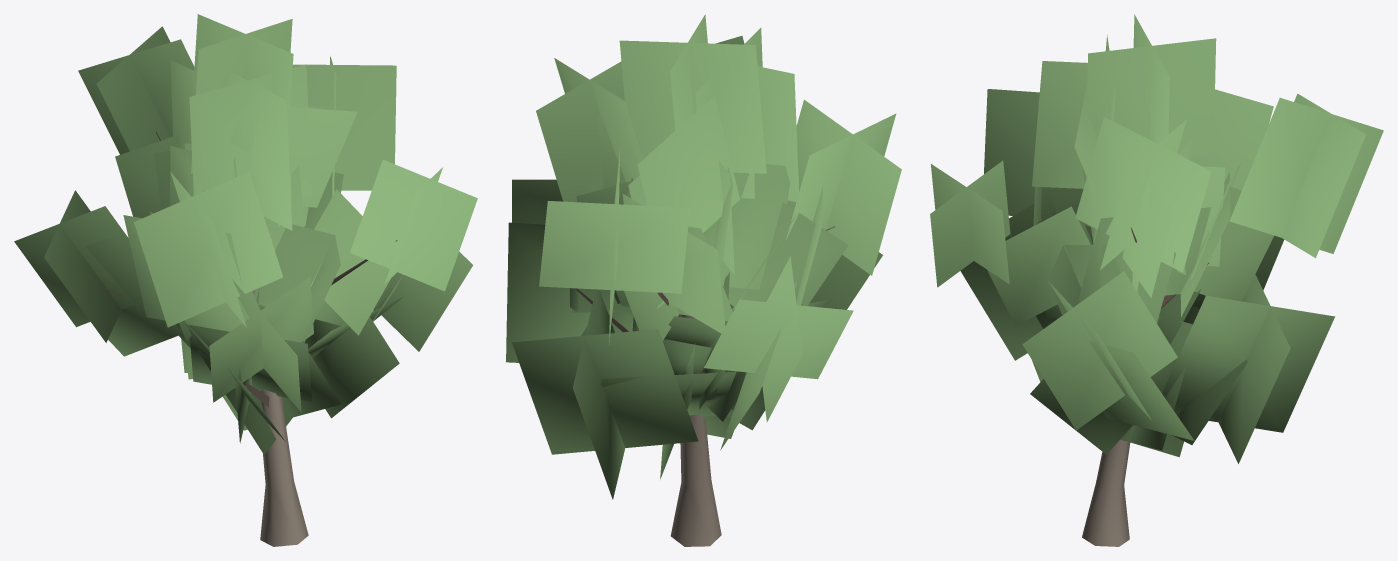
Rendered from tree_oak_b_lod1.glb.
The picture shows the model from 3 angles, left to right: view 1: azimuth 30°, elevation 25°; view 2: azimuth 150°, elevation 25°; view 3: azimuth 270°, elevation 25°; orthographic projection. The views are drawn at different scales.
Visible parts, largest first — view 1: tree_oak_b_lod1; view 2: tree_oak_b_lod1; view 3: tree_oak_b_lod1.
Boxes of the visible parts, x1,y1,x2,y2 form: tree_oak_b_lod1: (14,14,477,546); tree_oak_b_lod1: (506,14,901,546); tree_oak_b_lod1: (930,14,1383,546).
Bounding box in the file's own units: 11.9 × 15.1 × 12.63.
